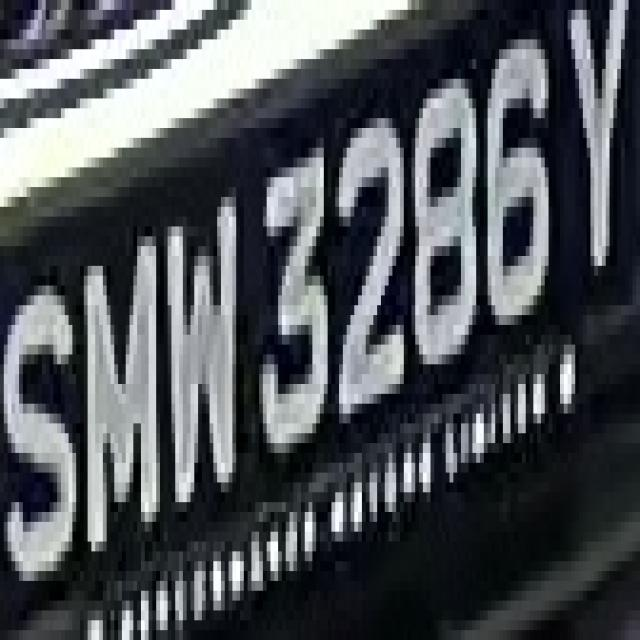2: (332, 128, 412, 443)
3: (248, 138, 335, 472)
6: (477, 29, 552, 334)
8: (408, 59, 483, 394)
M: (76, 236, 168, 562)
S: (8, 246, 76, 591)
W: (156, 158, 255, 512)
Y: (560, 0, 629, 266)
